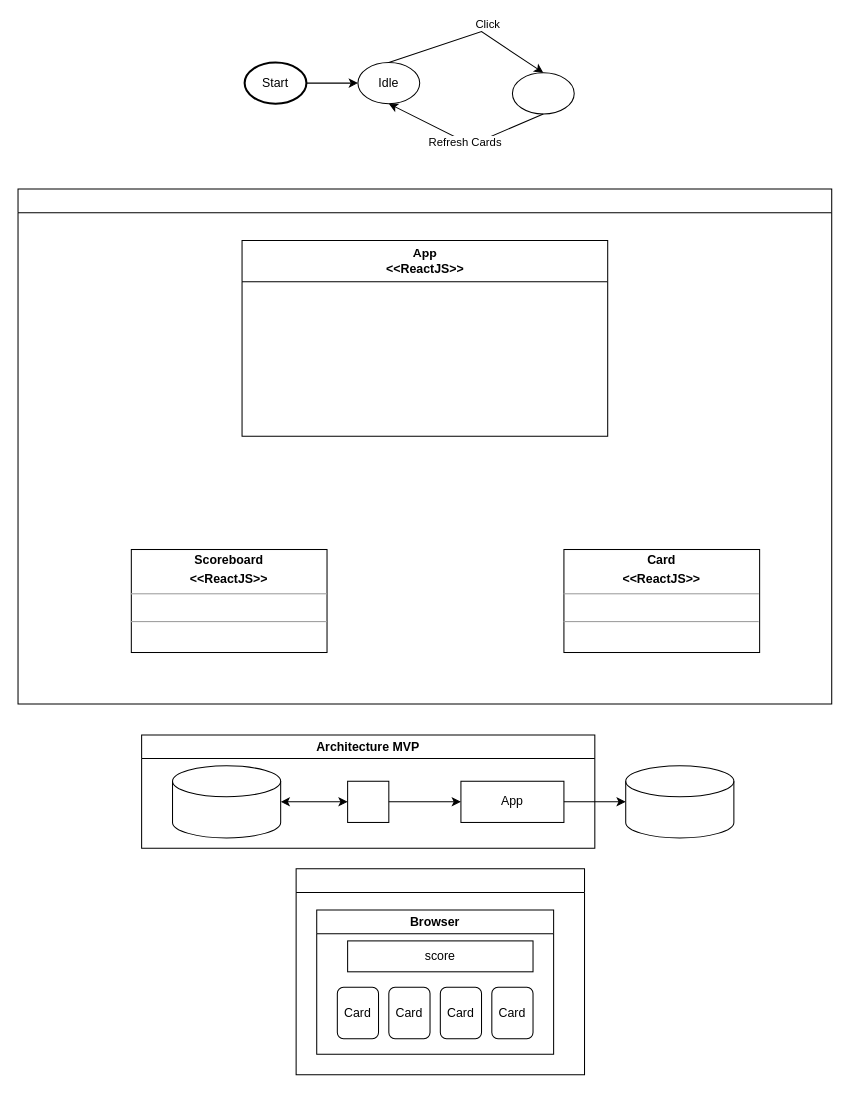
Image size: 850x1093. Some labels were removed from this diagram. The box of each missing label's shape, as (x1, y1, x2, y2) in pixels:
API: (347, 780, 389, 822)
Class MVP: (17, 188, 832, 704)
Image DB: (171, 765, 281, 838)
Score DB: (625, 765, 734, 838)
UI MVP: (295, 868, 585, 1075)
Update: (511, 72, 574, 114)
